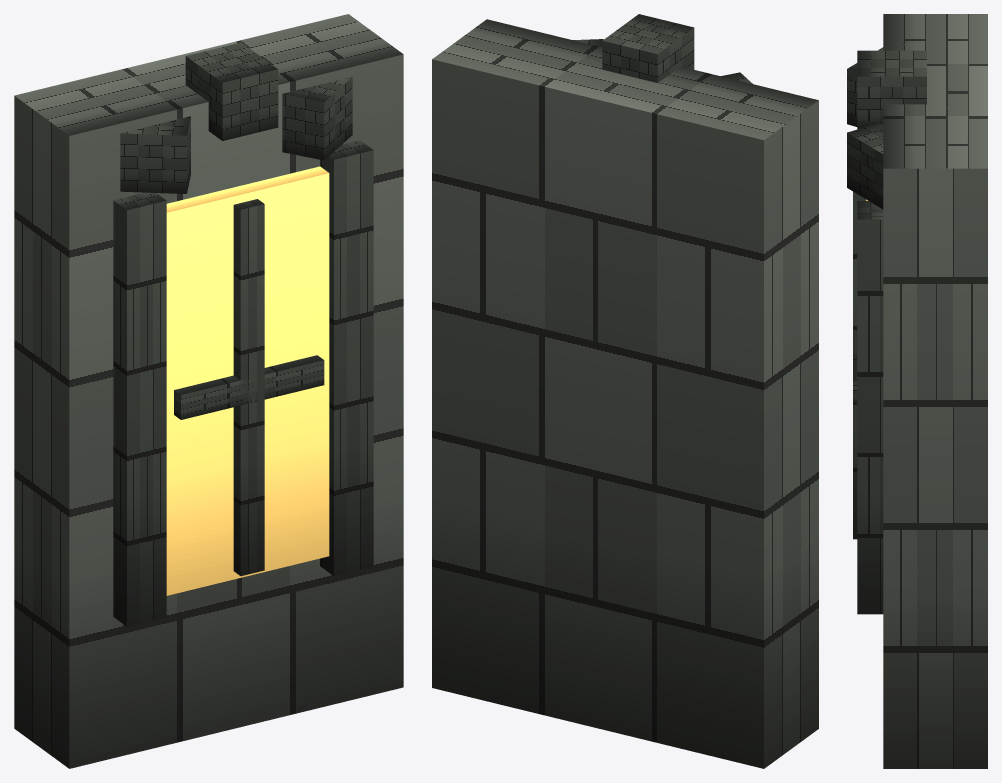
File: window_gothic.gltf
3 views of the same model, side by side, from view 1: azimuth 30°, elevation 25°; view 2: azimuth 150°, elevation 25°; view 3: azimuth 270°, elevation 25° (orthographic). The views are drawn at different scales.
Visible parts, largest first — view 1: window_gothic; view 2: window_gothic; view 3: window_gothic.
Boxes of the visible parts, bbox=[...] form: window_gothic: bbox=[14, 14, 403, 768]; window_gothic: bbox=[432, 14, 818, 768]; window_gothic: bbox=[847, 14, 987, 768].
Bounding box in the file's own units: 0.42 × 0.795 × 0.1616.
Materials: 1 (1 with a texture image).
